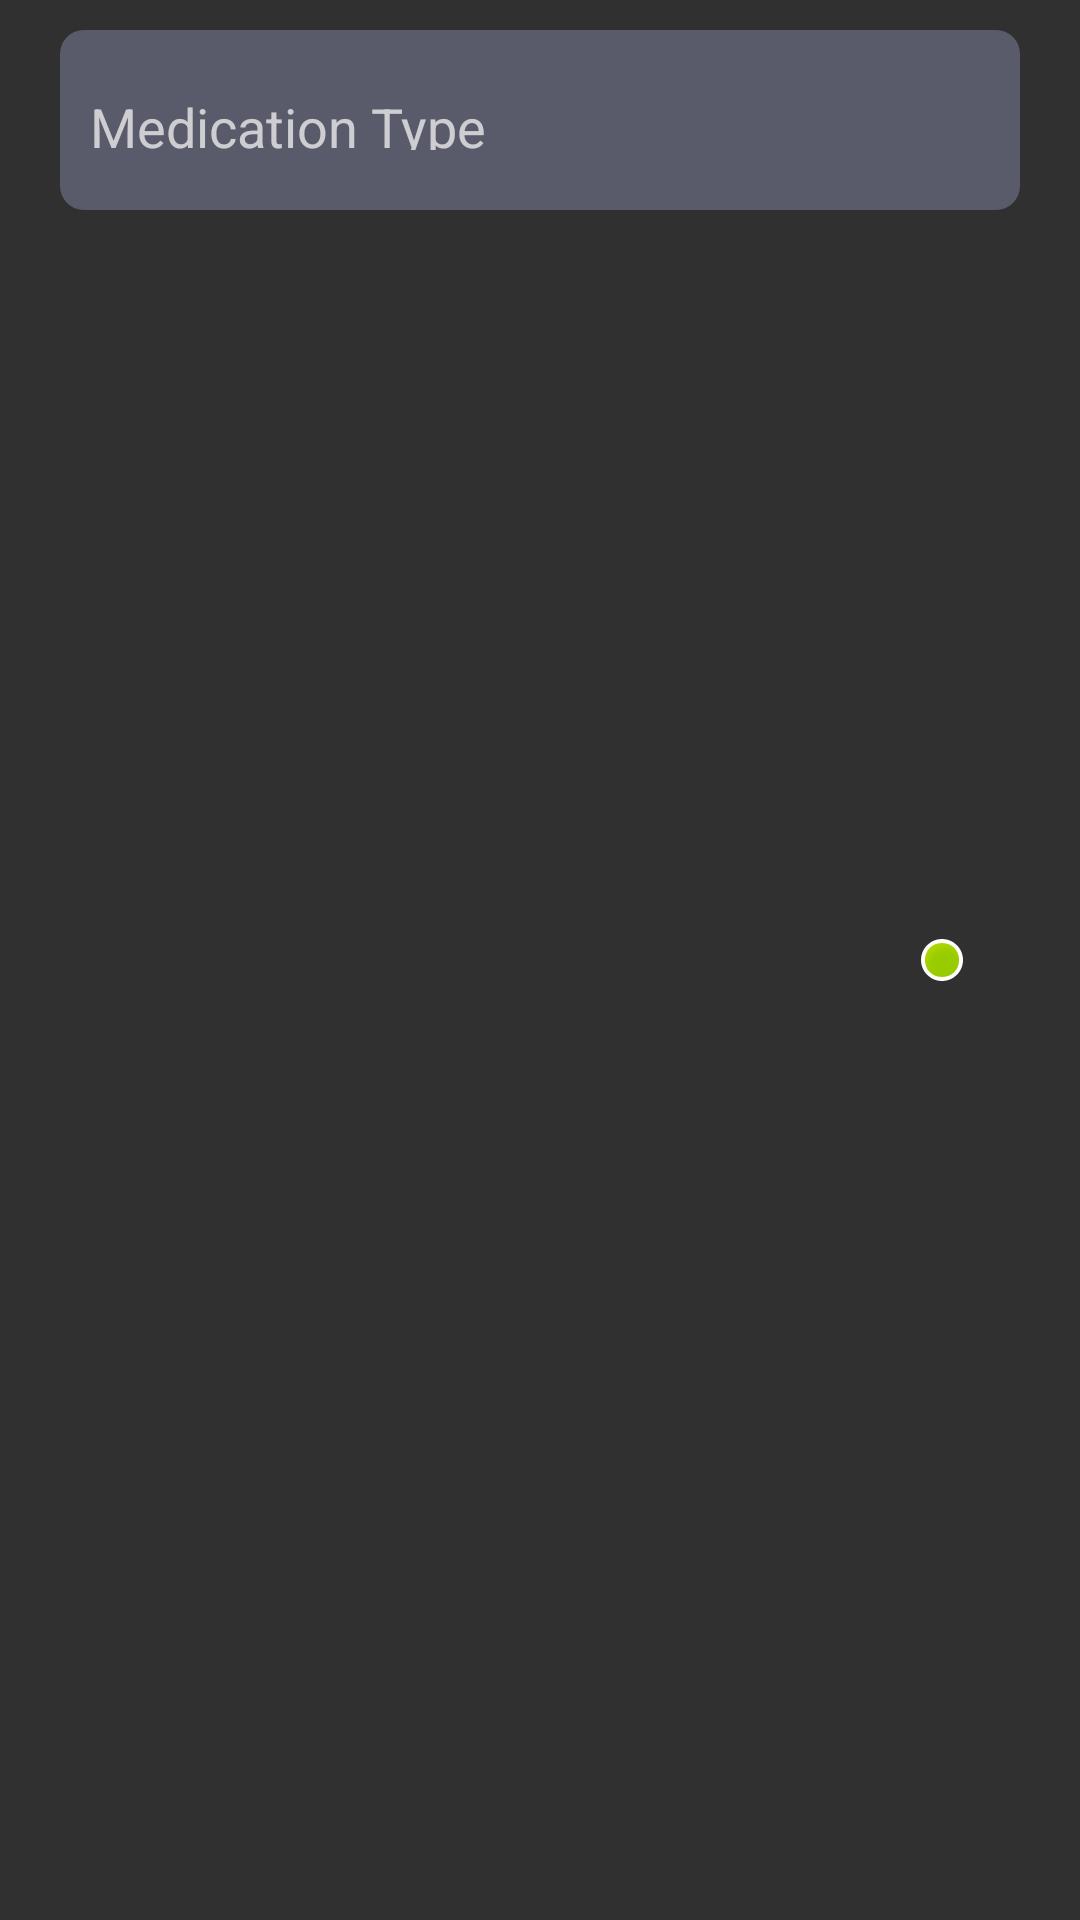

Point at icon controls on the screen. Image size 1080*1920, points as [x,y].
presence online: [942,960]
